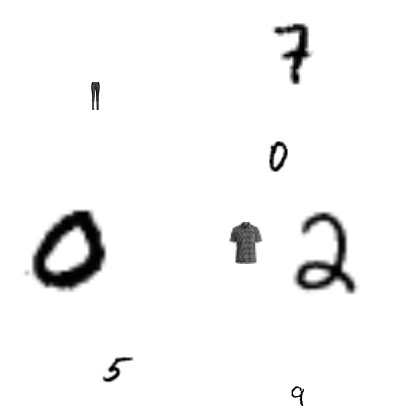0: (13, 195, 125, 307), (256, 134, 298, 176)
2: (270, 201, 382, 313)
5: (94, 347, 136, 389)
6: (362, 203, 376, 217)
7: (254, 6, 338, 90)
9: (284, 380, 312, 408)
Bag: (286, 277, 300, 291)
Shirt: (225, 222, 267, 264)
Trouser: (81, 82, 109, 110)
